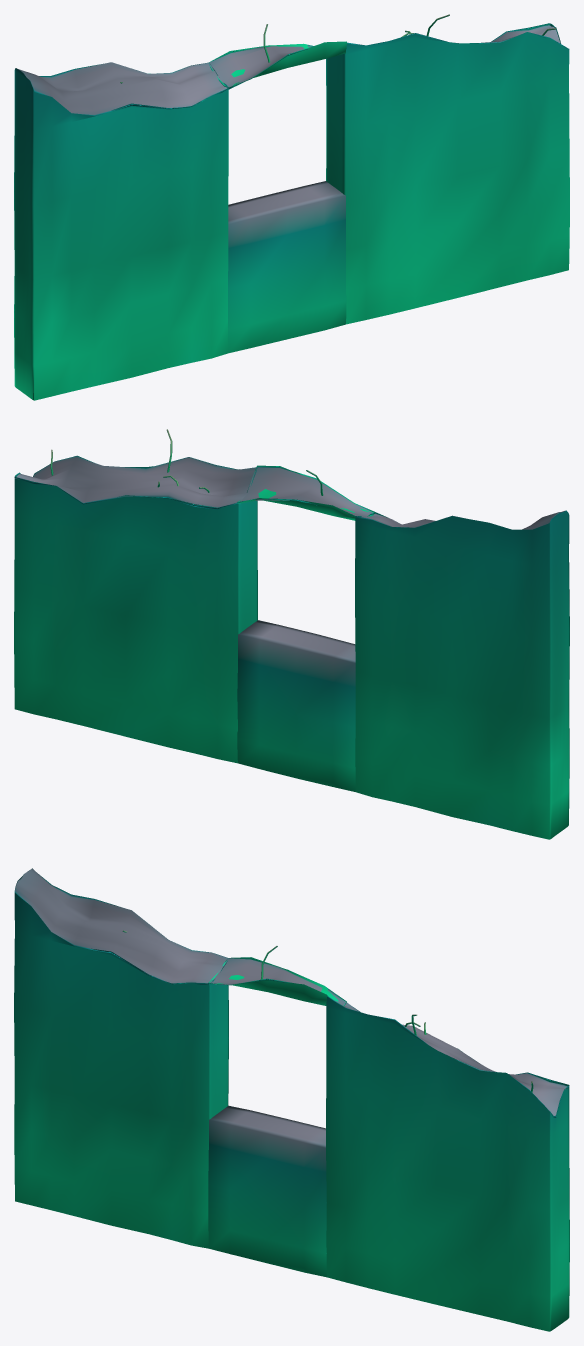
The model's file is ruin_wall_sunk.glb.
The picture shows the model from 3 angles, top to bottom: view 1: azimuth 30°, elevation 25°; view 2: azimuth 150°, elevation 25°; view 3: azimuth 330°, elevation 25°; orthographic projection.
Parts seen in each view (by area): view 1: ruin_wall_sunk; view 2: ruin_wall_sunk; view 3: ruin_wall_sunk.
Boxes of the visible parts, <box> form: ruin_wall_sunk: <box>14,14,569,400</box>; ruin_wall_sunk: <box>14,429,569,839</box>; ruin_wall_sunk: <box>14,868,569,1331</box>.
Size of what is drawn, in the model's own units: 6.02 by 3.45 by 0.5326.
